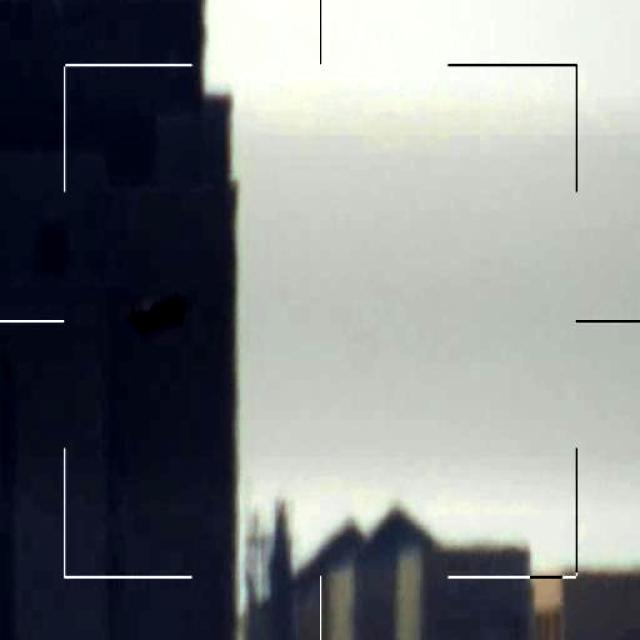bird: (129, 294, 189, 338)
